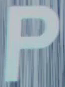Parking: (1, 1, 59, 80)
